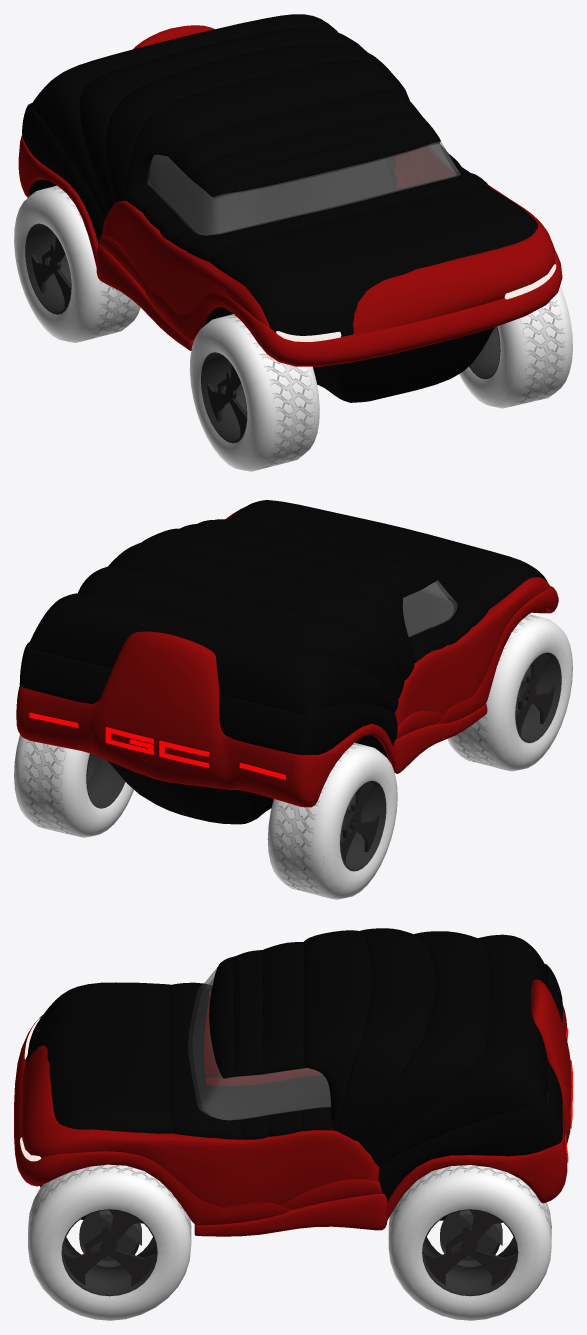
Rendered from J12_game.glb.
3 renders of one model, top to bottom at view 1: azimuth 30°, elevation 25°; view 2: azimuth 150°, elevation 25°; view 3: azimuth 270°, elevation 25°, orthographic. The views are drawn at different scales.
Parts seen in each view (by area): view 1: body_paint_base_game, tire_game (×3), body_paint_trim_1_game, body_paint_sole_game, body_glass_game, body_paint_trim_2_game, rim_barrel_game (×3), body_paint_trim_5_game, rim_face_game (×2), body_paint_trim_4_game, body_paint_trim_3_game, body_light_head_game; view 2: body_paint_base_game, tire_game (×3), body_paint_trim_5_game, body_paint_trim_1_game, body_paint_sole_game, rim_barrel_game (×3), rim_face_game (×2), body_paint_trim_2_game, body_glass_game, body_paint_trim_4_game, body_light_tail_game, body_paint_trim_3_game; view 3: body_paint_base_game, tire_game (×2), body_paint_trim_1_game, body_glass_game, body_paint_trim_5_game, body_paint_trim_2_game, rim_face_game (×2), body_paint_trim_4_game, rim_barrel_game (×2), body_paint_sole_game, brake_disc_game (×2), body_paint_trim_3_game.
Boxes of the visible parts, left/top/right/bottom form: body_paint_base_game: left=22, top=14, right=537, bottom=336; tire_game (×3): left=14, top=185, right=572, bottom=471; body_paint_trim_1_game: left=102, top=147, right=554, bottom=334; body_paint_sole_game: left=28, top=155, right=494, bottom=402; body_glass_game: left=147, top=141, right=460, bottom=235; body_paint_trim_2_game: left=145, top=250, right=562, bottom=366; rim_barrel_game (×3): left=25, top=223, right=500, bottom=442; body_paint_trim_5_game: left=18, top=25, right=214, bottom=266; rim_face_game (×2): left=31, top=235, right=246, bottom=436; body_paint_trim_4_game: left=96, top=178, right=402, bottom=350; body_paint_trim_3_game: left=99, top=163, right=403, bottom=292; body_light_head_game: left=276, top=264, right=556, bottom=341; body_paint_base_game: left=19, top=500, right=547, bottom=755; tire_game (×3): left=14, top=614, right=572, bottom=899; body_paint_trim_5_game: left=16, top=631, right=396, bottom=807; body_paint_trim_1_game: left=225, top=508, right=550, bottom=725; body_paint_sole_game: left=107, top=595, right=453, bottom=824; rim_barrel_game (×3): left=86, top=652, right=561, bottom=871; rim_face_game (×2): left=341, top=653, right=554, bottom=863; body_paint_trim_2_game: left=438, top=586, right=558, bottom=723; body_glass_game: left=402, top=580, right=456, bottom=637; body_paint_trim_4_game: left=393, top=704, right=487, bottom=773; body_light_tail_game: left=29, top=712, right=285, bottom=779; body_paint_trim_3_game: left=396, top=711, right=443, bottom=738; body_paint_base_game: left=25, top=928, right=562, bottom=1200; tire_game (×2): left=28, top=1164, right=551, bottom=1320; body_paint_trim_1_game: left=21, top=992, right=378, bottom=1207; body_glass_game: left=188, top=967, right=330, bottom=1120; body_paint_trim_5_game: left=386, top=979, right=571, bottom=1220; body_paint_trim_2_game: left=14, top=1015, right=291, bottom=1225; rim_face_game (×2): left=63, top=1210, right=516, bottom=1286; body_paint_trim_4_game: left=194, top=1068, right=387, bottom=1236; rim_barrel_game (×2): left=61, top=1209, right=518, bottom=1296; body_paint_sole_game: left=39, top=1075, right=547, bottom=1223; brake_disc_game (×2): left=79, top=1211, right=499, bottom=1267; body_paint_trim_3_game: left=277, top=1072, right=382, bottom=1209.
Size of what is drawn, in the model's own units: 2.71 by 2.1 by 3.94.
Materials: 15 (1 with a texture image).
